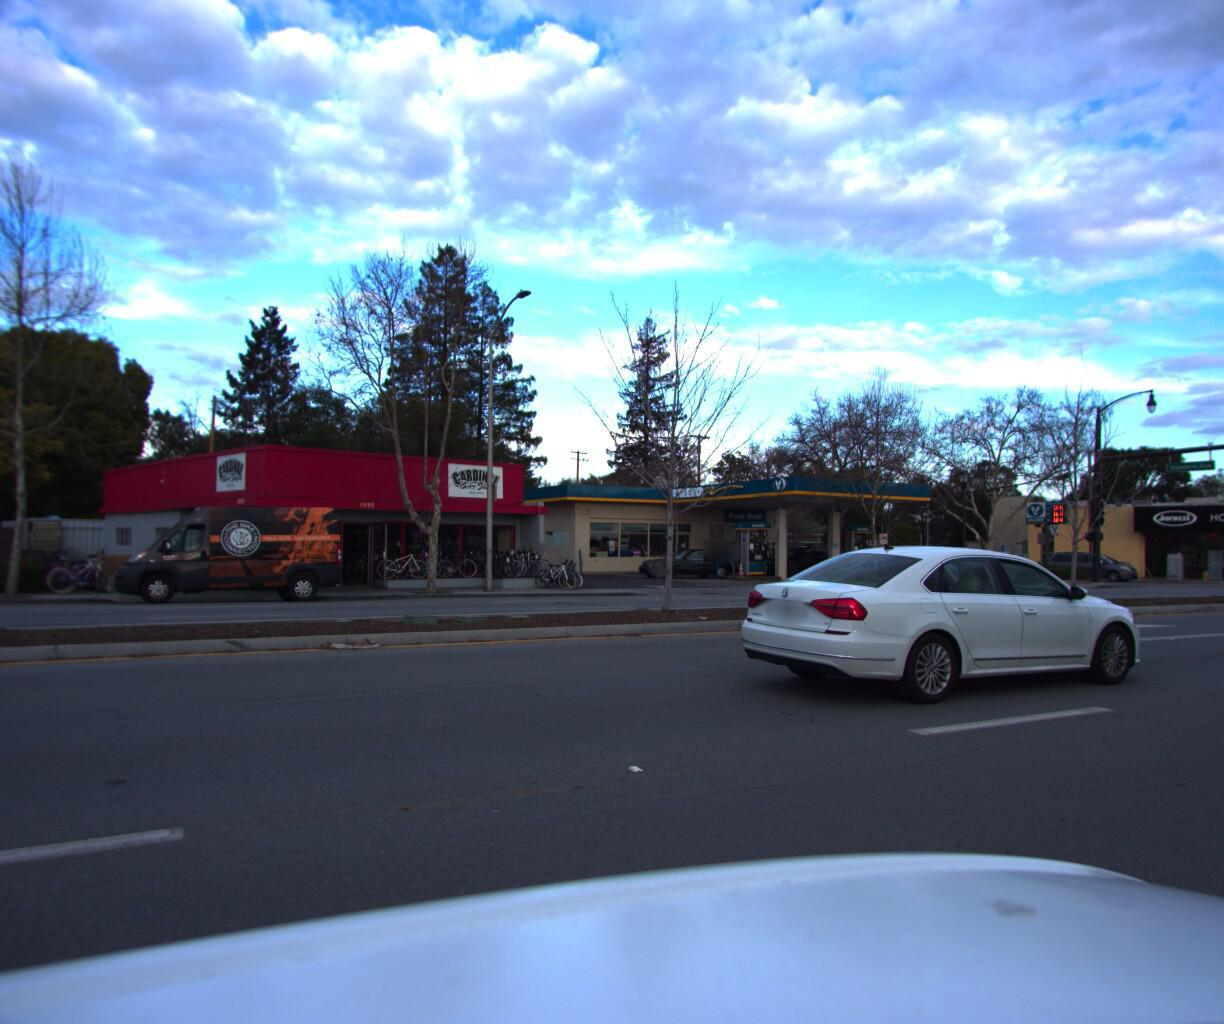bicycle: (45, 547, 126, 592), (41, 547, 122, 592), (39, 547, 118, 591), (547, 551, 588, 587), (539, 551, 579, 587), (477, 551, 515, 587), (486, 551, 524, 587), (495, 551, 532, 586), (516, 550, 553, 585), (506, 551, 543, 586)
car: (724, 541, 1162, 719), (631, 542, 741, 578), (750, 539, 848, 574), (1039, 544, 1138, 578)
truck: (111, 497, 347, 604)
